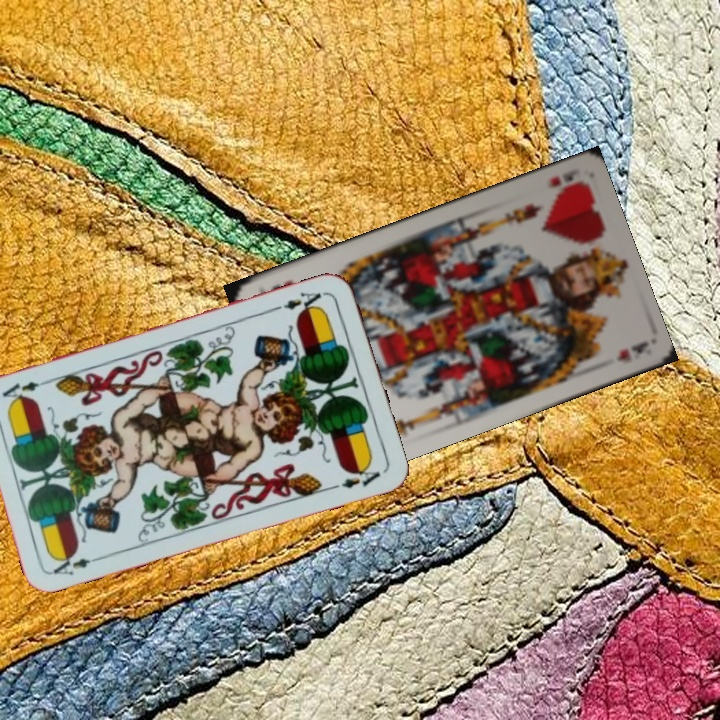EA: (49, 548, 106, 579), (272, 287, 330, 317)
HK: (543, 165, 580, 191)
